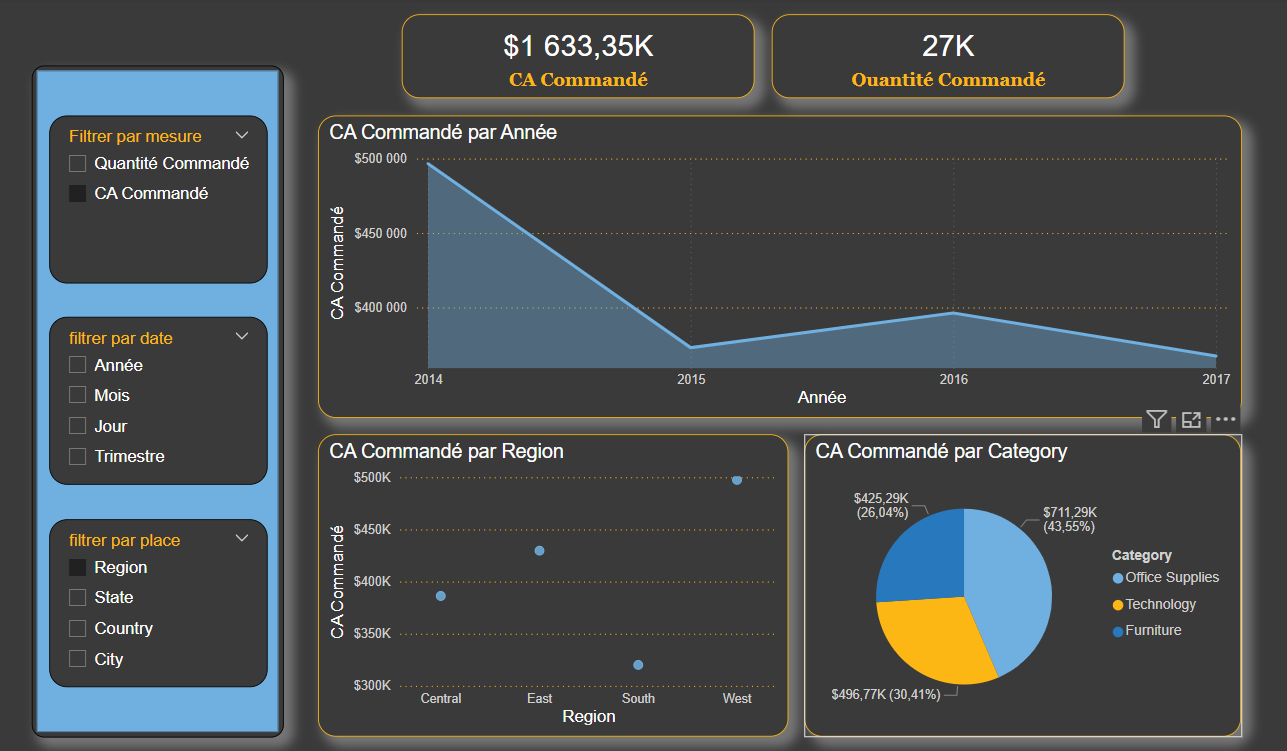

What the dashboard file says about the page in this screenshot:
{"tool":"powerbi","page":{"name":"Ordered Analysis","canvas":[1280,720],"ordinal":1},"visuals":[{"type":"shape","box":[80,64,240,640],"z":0},{"type":"card","fields":{"Values":["Metrics.CA Commandé"]},"box":[432,16,336,80],"z":1000},{"type":"slicer","fields":{"Values":["PARA Time.Paramètre"]},"box":[96,304,208,160],"z":2000},{"type":"areaChart","fields":{"Category":["Calendar.Date.Variation.Hiérarchie de dates.Année","Calendar.Date.Variation.Hiérarchie de dates.Mois","Calendar.Date.Variation.Hiérarchie de dates.Jour","Calendar.Date.Variation.Hiérarchie de dates.Trimestre"],"Y":["Metrics.CA Commandé"]},"box":[352,112,880,288],"z":3000},{"type":"pieChart","fields":{"Category":["DATA.Category"],"Y":["Metrics.CA Commandé"]},"box":[816,416,416,288],"z":4000},{"type":"slicer","fields":{"Values":["Paramètre 3.Paramètre"]},"box":[96,496,208,160],"z":5000},{"type":"scatterChart","fields":{"X":["DATA.Region"],"Y":["Metrics.CA Commandé"]},"box":[352,416,448,288],"z":6000},{"type":"actionButton","box":[0,0,100,40],"z":7000},{"type":"card","fields":{"Values":["Metrics.Quantité Commandé"]},"box":[784,16,336,80],"z":8000},{"type":"slicer","fields":{"Values":["orderPara.orderPara"]},"box":[96,112,208,160],"z":9000}]}

Visuals, with their boxes on the page's 1280x720 design canvas (x1, y1, x2, y2). These are canvas units, not pixel positions in the 1287x751 screenshot, which may show the page scaled, cropped or inside an application window:
shape: [x1=80, y1=64, x2=320, y2=704]
card - Metrics.CA Commandé: [x1=432, y1=16, x2=768, y2=96]
slicer - PARA Time.Paramètre: [x1=96, y1=304, x2=304, y2=464]
areaChart - Calendar.Date.Variation.Hiérarchie de dates.Année x Calendar.Date.Variation.Hiérarchie de dates.Mois: [x1=352, y1=112, x2=1232, y2=400]
pieChart - DATA.Category x Metrics.CA Commandé: [x1=816, y1=416, x2=1232, y2=704]
slicer - Paramètre 3.Paramètre: [x1=96, y1=496, x2=304, y2=656]
scatterChart - DATA.Region x Metrics.CA Commandé: [x1=352, y1=416, x2=800, y2=704]
actionButton: [x1=0, y1=0, x2=100, y2=40]
card - Metrics.Quantité Commandé: [x1=784, y1=16, x2=1120, y2=96]
slicer - orderPara.orderPara: [x1=96, y1=112, x2=304, y2=272]
